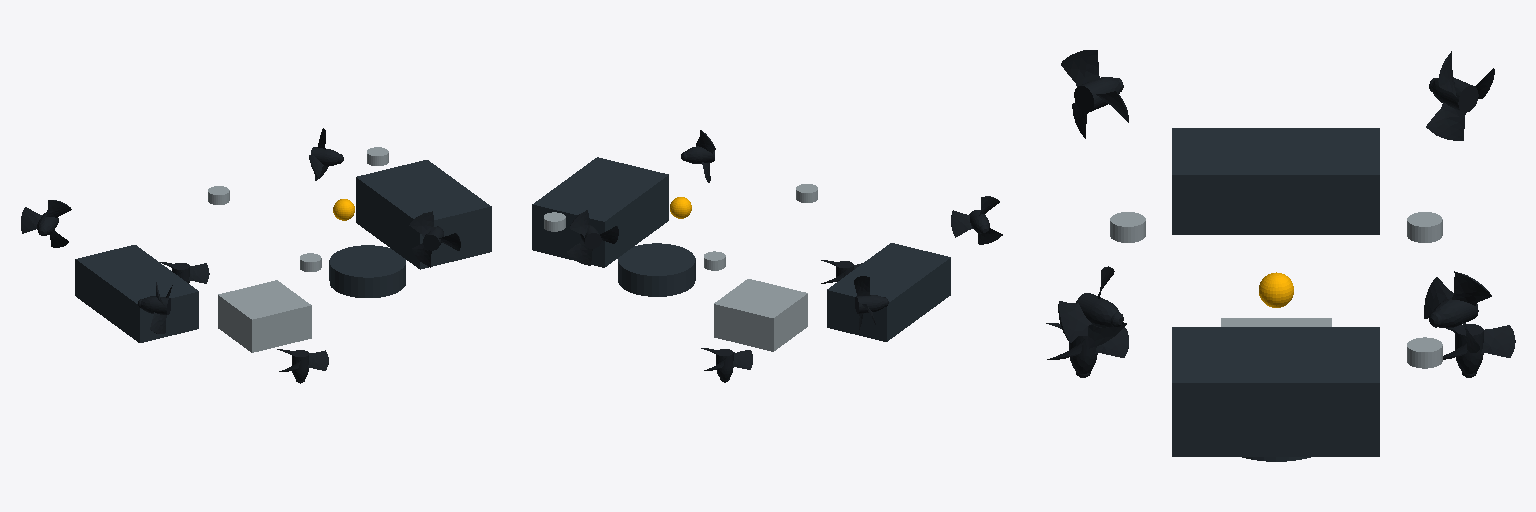
The robot description file, URDF, robot "youlong_auv":
<?xml version="1.0"?>
<robot name="youlong_auv">
  <material name="Hull White"><color rgba="0.88 0.89 0.86 1"/></material>
  <material name="Hull Yellow"><color rgba="1 0.72 0.04 1"/></material>
  <material name="Sensor Housing"><color rgba="0.20 0.24 0.27 1"/></material>
  <material name="Lens Glass"><color rgba="0.08 0.48 0.72 0.95"/></material>
  <material name="Sensor Metal"><color rgba="0.62 0.66 0.68 1"/></material>
  <material name="Propeller Dark"><color rgba="0.14 0.16 0.18 1"/></material>
  <link name="base_link">
  <!-- These OBJ files are CAD-space meshes. Their geometry origins reproduce
       Stonefish's mesh origin plus compound transform, including the 180 deg
       X rotation into body-FRD; only the visuals are rotated, not the TF links. -->

  <!-- Stonefish youlong.scn visual-only hull parts, converted from millimetres. -->
  <visual><origin xyz="0 0 0.18" rpy="3.1415926 0 0"/><geometry><mesh filename="package://uv_rviz/meshes/youlong/xy_buoyancy_block.obj" scale="0.001 0.001 0.001"/></geometry><material name="Hull Yellow"/></visual>
  <visual><origin xyz="0 0 0.18" rpy="3.1415926 0 0"/><geometry><mesh filename="package://uv_rviz/meshes/youlong/xy_left_sideplate.obj" scale="0.001 0.001 0.001"/></geometry><material name="Hull White"/></visual>
  <visual><origin xyz="0 0 0.18" rpy="3.1415926 0 0"/><geometry><mesh filename="package://uv_rviz/meshes/youlong/xy_right_sideplate.obj" scale="0.001 0.001 0.001"/></geometry><material name="Hull White"/></visual>
  <visual><origin xyz="0 0 0.18" rpy="3.1415926 0 0"/><geometry><mesh filename="package://uv_rviz/meshes/youlong/xy_forward_bracket.obj" scale="0.001 0.001 0.001"/></geometry><material name="Hull White"/></visual>
  <visual><origin xyz="0 0 0.18" rpy="3.1415926 0 0"/><geometry><mesh filename="package://uv_rviz/meshes/youlong/xy_aft_bracket.obj" scale="0.001 0.001 0.001"/></geometry><material name="Hull White"/></visual>
  <visual><origin xyz="0 0 0.18" rpy="3.1415926 0 0"/><geometry><mesh filename="package://uv_rviz/meshes/youlong/xy_core_enclosure.obj" scale="0.001 0.001 0.001"/></geometry><material name="Hull White"/></visual>
  <visual><origin xyz="0 0 0.18" rpy="3.1415926 0 0"/><geometry><mesh filename="package://uv_rviz/meshes/youlong/xy_ins_base_plate.obj" scale="0.001 0.001 0.001"/></geometry><material name="Hull White"/></visual>
  <visual><origin xyz="0 0 0.18" rpy="3.1415926 0 0"/><geometry><mesh filename="package://uv_rviz/meshes/youlong/battery_pod.obj" scale="0.001 0.001 0.001"/></geometry><material name="Hull White"/></visual>
  <!-- Stonefish actuator propeller placements from youlong.scn. -->
  <visual><origin xyz="-0.16485 0.12935 0.1095" rpy="0 0 0.780003"/><geometry><mesh filename="package://uv_rviz/meshes/youlong/propeller.obj" scale="0.35 0.35 0.35"/></geometry><material name="Propeller Dark"/></visual>
  <visual><origin xyz="-0.16485 -0.12935 0.1095" rpy="0 0 -0.780003"/><geometry><mesh filename="package://uv_rviz/meshes/youlong/propeller.obj" scale="0.35 0.35 0.35"/></geometry><material name="Propeller Dark"/></visual>
  <visual><origin xyz="0 -0.13 0.015" rpy="0 -1.5708 -0.00000265359"/><geometry><mesh filename="package://uv_rviz/meshes/youlong/propeller.obj" scale="0.35 0.35 0.35"/></geometry><material name="Propeller Dark"/></visual>
  <visual><origin xyz="0 0.13 0.015" rpy="0 -1.5708 -0.00000265359"/><geometry><mesh filename="package://uv_rviz/meshes/youlong/propeller.obj" scale="0.35 0.35 0.35"/></geometry><material name="Propeller Dark"/></visual>
  <visual><origin xyz="0.16485 0.12935 0.1095" rpy="0 0 2.356"/><geometry><mesh filename="package://uv_rviz/meshes/youlong/propeller.obj" scale="0.35 0.35 0.35"/></geometry><material name="Propeller Dark"/></visual>
  <visual><origin xyz="0.16485 -0.12935 0.1095" rpy="0 0 -2.356"/><geometry><mesh filename="package://uv_rviz/meshes/youlong/propeller.obj" scale="0.35 0.35 0.35"/></geometry><material name="Propeller Dark"/></visual>
  </link>

  <!-- Real vehicle geometry from docs/auv元件说明和标定数据_第五版.pdf.
       Coordinates are body-FRD metres: x forward, y right, z down.
       The down-camera baseline is the norm of the latest stereo calibration
       translation (61.172673 mm); the front baseline remains 60 mm. -->
  <link name="front_camera_link"><visual><geometry><box size="0.09 0.14 0.055"/></geometry><material name="Sensor Housing"/></visual></link>
  <joint name="front_camera_mount" type="fixed">
    <parent link="base_link"/>
    <child link="front_camera_link"/>
    <origin xyz="0.23 0.0 0.076" rpy="0 0 0"/>
  </joint>
  <link name="front_left_camera_optical_frame"><visual><geometry><cylinder radius="0.014" length="0.014"/></geometry><material name="Lens Glass"/></visual></link>
  <joint name="front_left_camera_mount" type="fixed">
    <parent link="front_camera_link"/>
    <child link="front_left_camera_optical_frame"/>
    <origin xyz="0 -0.03 0" rpy="1.5707963267948966 0 1.5707963267948966"/>
  </joint>
  <link name="front_right_camera_optical_frame"><visual><geometry><cylinder radius="0.014" length="0.014"/></geometry><material name="Lens Glass"/></visual></link>
  <joint name="front_right_camera_mount" type="fixed">
    <parent link="front_camera_link"/>
    <child link="front_right_camera_optical_frame"/>
    <origin xyz="0 0.03 0" rpy="1.5707963267948966 0 1.5707963267948966"/>
  </joint>

  <link name="downward_camera_link"><visual><geometry><box size="0.075 0.14 0.045"/></geometry><material name="Sensor Housing"/></visual></link>
  <joint name="downward_camera_mount" type="fixed">
    <parent link="base_link"/>
    <child link="downward_camera_link"/>
    <origin xyz="-0.13 0 0.0645" rpy="0 0 0"/>
  </joint>
  <link name="downward_left_camera_optical_frame"><visual><geometry><cylinder radius="0.013" length="0.012"/></geometry><material name="Lens Glass"/></visual></link>
  <joint name="downward_left_camera_mount" type="fixed">
    <parent link="downward_camera_link"/>
    <child link="downward_left_camera_optical_frame"/>
    <origin xyz="0 -0.03058633655786893 0" rpy="0 0 1.5707963267948966"/>
  </joint>
  <link name="downward_right_camera_optical_frame"><visual><geometry><cylinder radius="0.013" length="0.012"/></geometry><material name="Lens Glass"/></visual></link>
  <joint name="downward_right_camera_mount" type="fixed">
    <parent link="downward_camera_link"/>
    <child link="downward_right_camera_optical_frame"/>
    <origin xyz="0 0.03058633655786893 0" rpy="0 0 1.5707963267948966"/>
  </joint>

  <link name="imu_link"><visual><geometry><box size="0.075 0.075 0.04"/></geometry><material name="Sensor Metal"/></visual></link>
  <joint name="imu_mount" type="fixed">
    <parent link="base_link"/>
    <child link="imu_link"/>
    <!-- PDF gives the INS geometric-centre origin but no sensor orientation.
         This identity is a Body-aligned point-reference convention, not a
         calibrated INS-axis transform. Do not use it to rotate IMU vectors. -->
    <origin xyz="0.03 0 0" rpy="0 0 0"/>
  </joint>
  <link name="usbl_link"><visual><geometry><cylinder radius="0.042" length="0.025"/></geometry><material name="Sensor Housing"/></visual></link>
  <joint name="usbl_mount" type="fixed">
    <parent link="base_link"/>
    <child link="usbl_link"/>
    <origin xyz="0.16 0 0.0235" rpy="0 0 0"/>
  </joint>

  <!-- USBL transducer positions.  They are exposed for calibration and TF
       consumers; the acoustic reference point remains usbl_link. -->
  <link name="usbl_transducer_a1"><visual><geometry><cylinder radius="0.012" length="0.012"/></geometry><material name="Sensor Metal"/></visual></link>
  <joint name="usbl_transducer_a1_mount" type="fixed">
    <parent link="base_link"/>
    <child link="usbl_transducer_a1"/>
    <origin xyz="0.03 -0.10 0.105" rpy="0 0 0"/>
  </joint>
  <link name="usbl_transducer_a2"><visual><geometry><cylinder radius="0.012" length="0.012"/></geometry><material name="Sensor Metal"/></visual></link>
  <joint name="usbl_transducer_a2_mount" type="fixed">
    <parent link="base_link"/>
    <child link="usbl_transducer_a2"/>
    <origin xyz="0.03 0.10 0.105" rpy="0 0 0"/>
  </joint>
  <link name="usbl_transducer_a3"><visual><geometry><cylinder radius="0.012" length="0.012"/></geometry><material name="Sensor Metal"/></visual></link>
  <joint name="usbl_transducer_a3_mount" type="fixed">
    <parent link="base_link"/>
    <child link="usbl_transducer_a3"/>
    <origin xyz="0.23 0.10 0.105" rpy="0 0 0"/>
  </joint>
  <link name="usbl_array_geometry_center"><visual><geometry><sphere radius="0.012"/></geometry><material name="Hull Yellow"/></visual></link>
  <joint name="usbl_array_geometry_center_mount" type="fixed">
    <parent link="base_link"/>
    <child link="usbl_array_geometry_center"/>
    <origin xyz="0.13 0 0.105" rpy="0 0 0"/>
  </joint>

  <!-- PDF v5 gripper reference frames: x_G -> +z_B, y_G -> -y_B,
       z_G -> +x_B. The specified rotation is shared by G1 and G2. -->
  <link name="disc_claw_link"/>
  <joint name="disc_claw_mount" type="fixed">
    <parent link="base_link"/>
    <child link="disc_claw_link"/>
    <origin xyz="-0.28 0 0.290" rpy="3.141592653589793 -1.5707963267948966 0"/>
  </joint>

  <link name="hairpin_claw_link"/>
  <joint name="hairpin_claw_mount" type="fixed">
    <parent link="base_link"/>
    <child link="hairpin_claw_link"/>
    <origin xyz="0.35 0 0.130" rpy="3.141592653589793 -1.5707963267948966 0"/>
  </joint>
</robot>

--- Facts derived from the render (not from the file) ---
Views: 3 orthographic renders of the robot side by side, from view 1: azimuth 30°, elevation 25°; view 2: azimuth 150°, elevation 25°; view 3: azimuth 270°, elevation 25°.
Model youlong_auv with 15 links and 14 joints (14 fixed), rooted at base_link, posed all joints at 0.
Visible links, largest first — view 1: front_camera_link, downward_camera_link, base_link, imu_link, usbl_link; view 2: front_camera_link, downward_camera_link, base_link, imu_link, usbl_link; view 3: front_camera_link, downward_camera_link, base_link, usbl_transducer_a3, usbl_transducer_a1, usbl_transducer_a2, imu_link, usbl_array_geometry_center.
Link boxes in pixels (x1=…): front_camera_link: x1=356, y1=160, x2=491, y2=269; downward_camera_link: x1=75, y1=245, x2=198, y2=342; base_link: x1=21, y1=128, x2=460, y2=383; imu_link: x1=218, y1=280, x2=311, y2=352; usbl_link: x1=329, y1=245, x2=405, y2=297; front_camera_link: x1=532, y1=157, x2=668, y2=267; downward_camera_link: x1=827, y1=243, x2=950, y2=341; base_link: x1=567, y1=130, x2=1002, y2=382; imu_link: x1=714, y1=279, x2=807, y2=351; usbl_link: x1=618, y1=243, x2=695, y2=296; front_camera_link: x1=1172, y1=327, x2=1379, y2=456; downward_camera_link: x1=1172, y1=128, x2=1379, y2=234; base_link: x1=1046, y1=50, x2=1515, y2=377; usbl_transducer_a3: x1=1407, y1=337, x2=1442, y2=368; usbl_transducer_a1: x1=1110, y1=212, x2=1145, y2=242; usbl_transducer_a2: x1=1407, y1=212, x2=1442, y2=242; imu_link: x1=1221, y1=318, x2=1331, y2=326; usbl_array_geometry_center: x1=1259, y1=272, x2=1293, y2=307.
Size in the robot's own frame: 0.4698 by 0.3173 by 0.1607 metres.
6 mesh visuals loaded from 9 distinct referenced files (1 OBJ); not drawn: 8 (reference not matched to a file when rendering).
